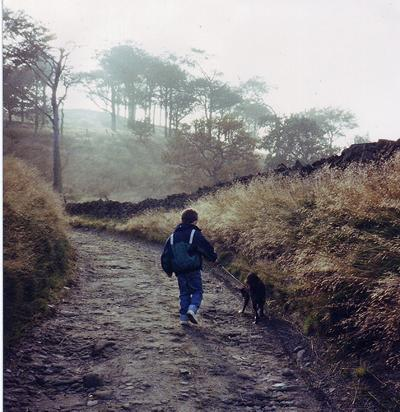person: (160, 209, 219, 323)
